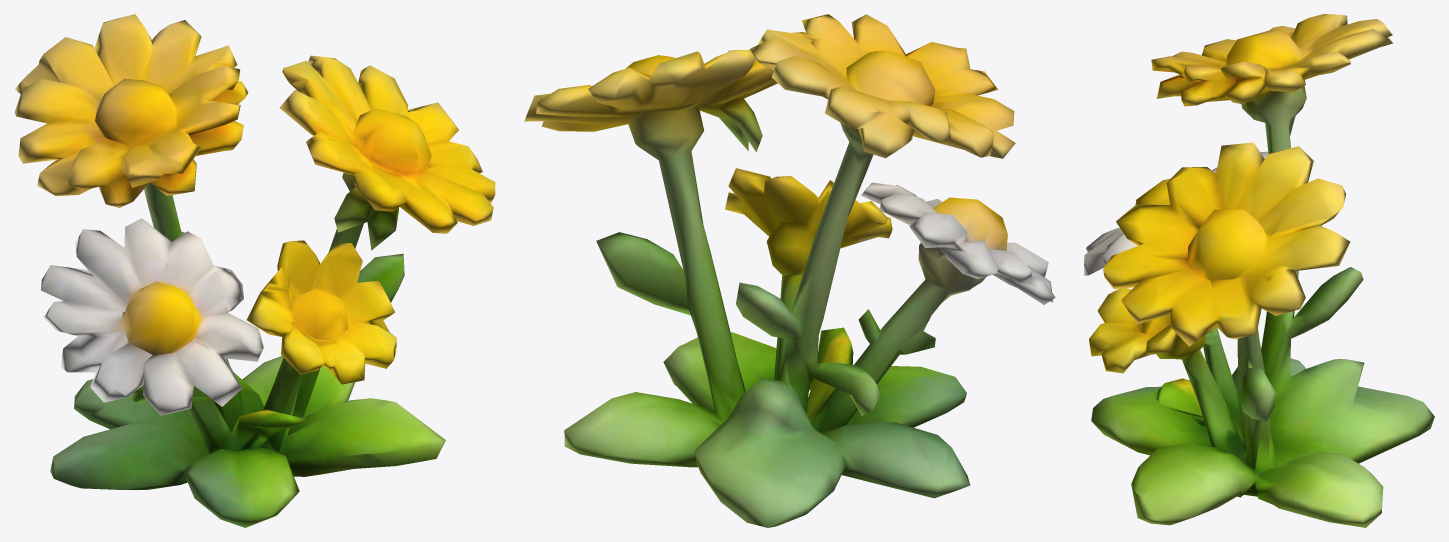
File: poppy-daisy.glb
3 renders of one model, left to right at view 1: azimuth 30°, elevation 25°; view 2: azimuth 150°, elevation 25°; view 3: azimuth 270°, elevation 25°, orthographic. The views are drawn at different scales.
Parts seen in each view (by area): view 1: tripo_node_b7a758d4-2bfe-4dba-88b7-b438d155fecf; view 2: tripo_node_b7a758d4-2bfe-4dba-88b7-b438d155fecf; view 3: tripo_node_b7a758d4-2bfe-4dba-88b7-b438d155fecf.
Part boxes in pixels (x1=…): tripo_node_b7a758d4-2bfe-4dba-88b7-b438d155fecf: x1=14, y1=14, x2=495, y2=527; tripo_node_b7a758d4-2bfe-4dba-88b7-b438d155fecf: x1=524, y1=14, x2=1055, y2=527; tripo_node_b7a758d4-2bfe-4dba-88b7-b438d155fecf: x1=1084, y1=14, x2=1434, y2=527.
Bounding box in the file's own units: 1 × 0.915 × 0.7108.
1 material, 1 textured.
